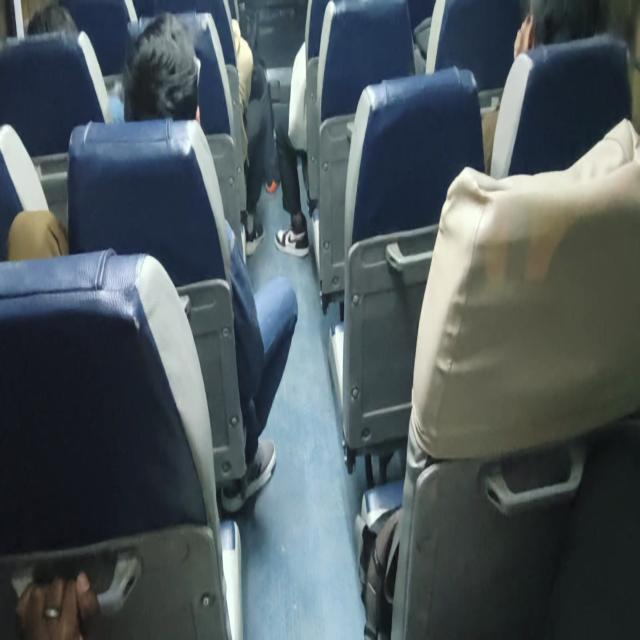person: (126, 18, 207, 137), (515, 0, 603, 59), (19, 0, 92, 47)
